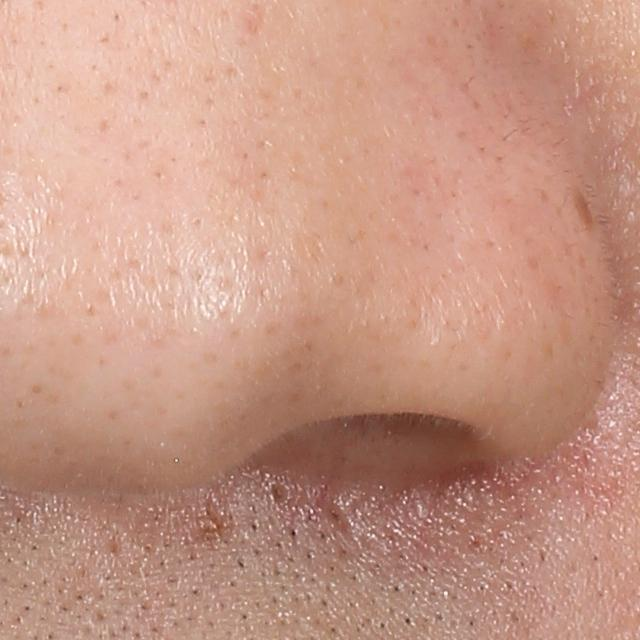melasma: (570, 183, 598, 231)
